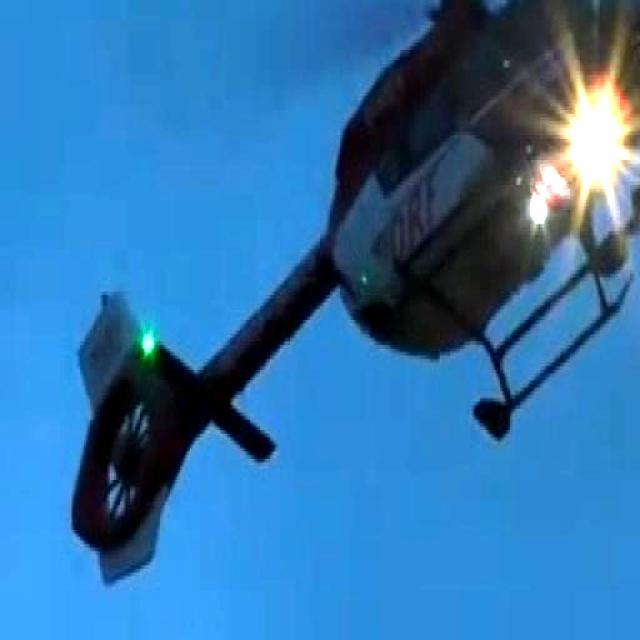drone: (64, 0, 640, 595)
